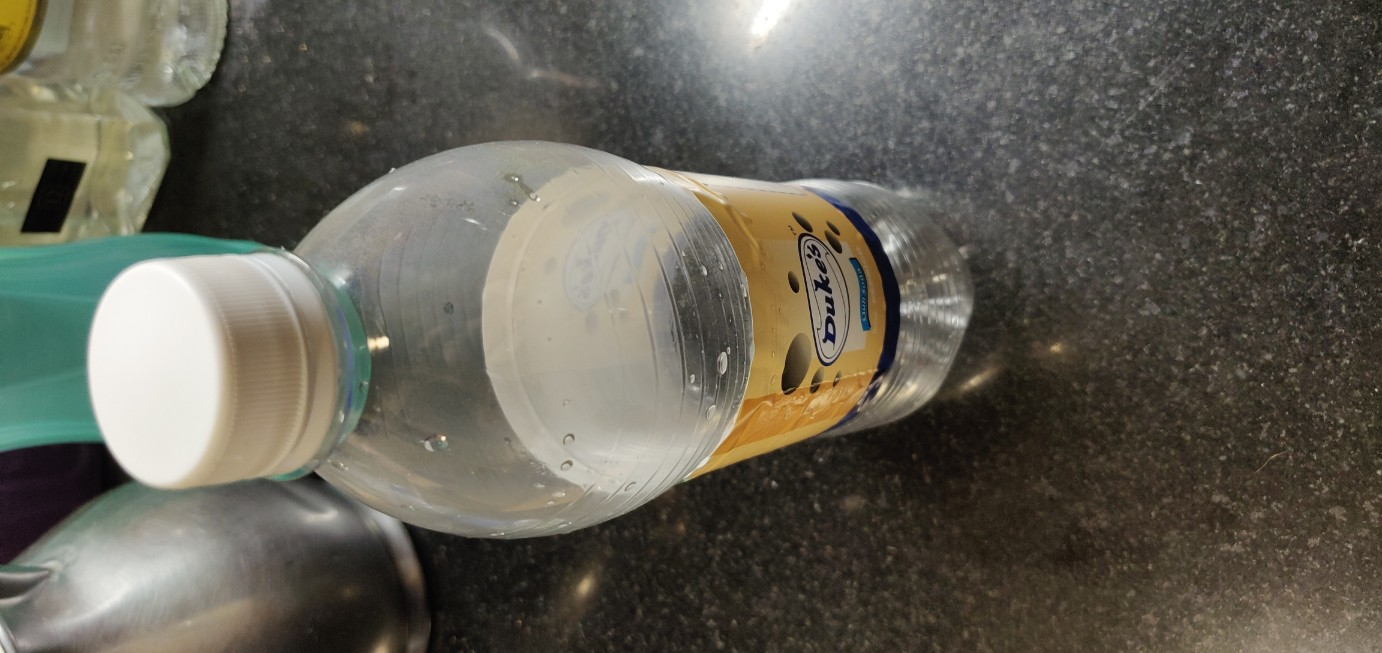Electronics: (69, 116, 1069, 555)
